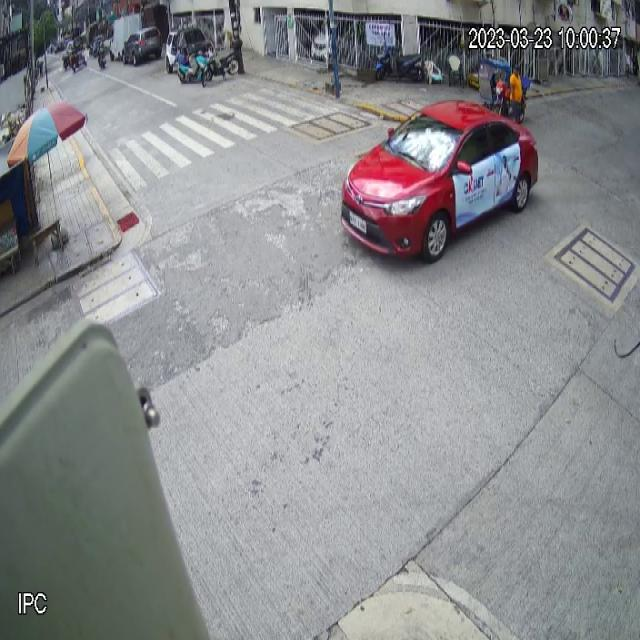Car: (341, 100, 539, 263)
